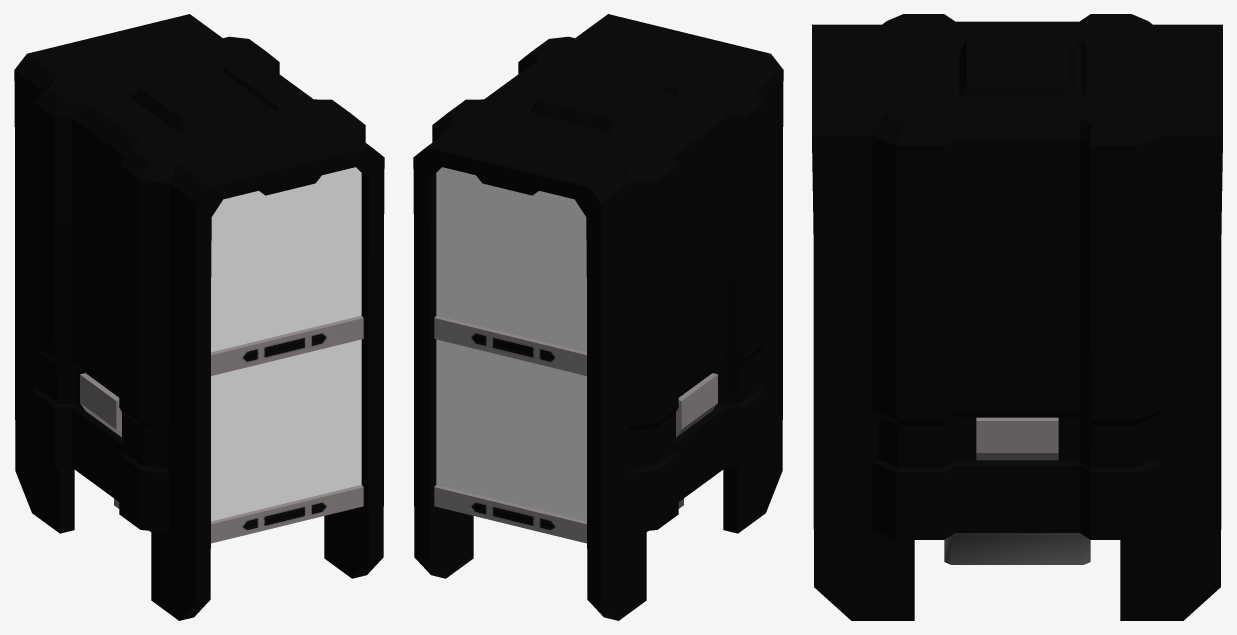
Rendered from splitter-b.glb.
3 views of the same model, side by side, from view 1: azimuth 30°, elevation 25°; view 2: azimuth 150°, elevation 25°; view 3: azimuth 270°, elevation 25° (orthographic). The views are drawn at different scales.
Parts seen in each view (by area): view 1: splitter-2; view 2: splitter-2; view 3: splitter-2.
Part boxes in pixels (bbox=[...]): splitter-2: bbox=[14, 14, 384, 620]; splitter-2: bbox=[413, 14, 783, 620]; splitter-2: bbox=[812, 14, 1222, 620].
Bounding box in the file's own units: 1.8 × 3.44 × 2.52.
Materials: 2 (1 with a texture image).
